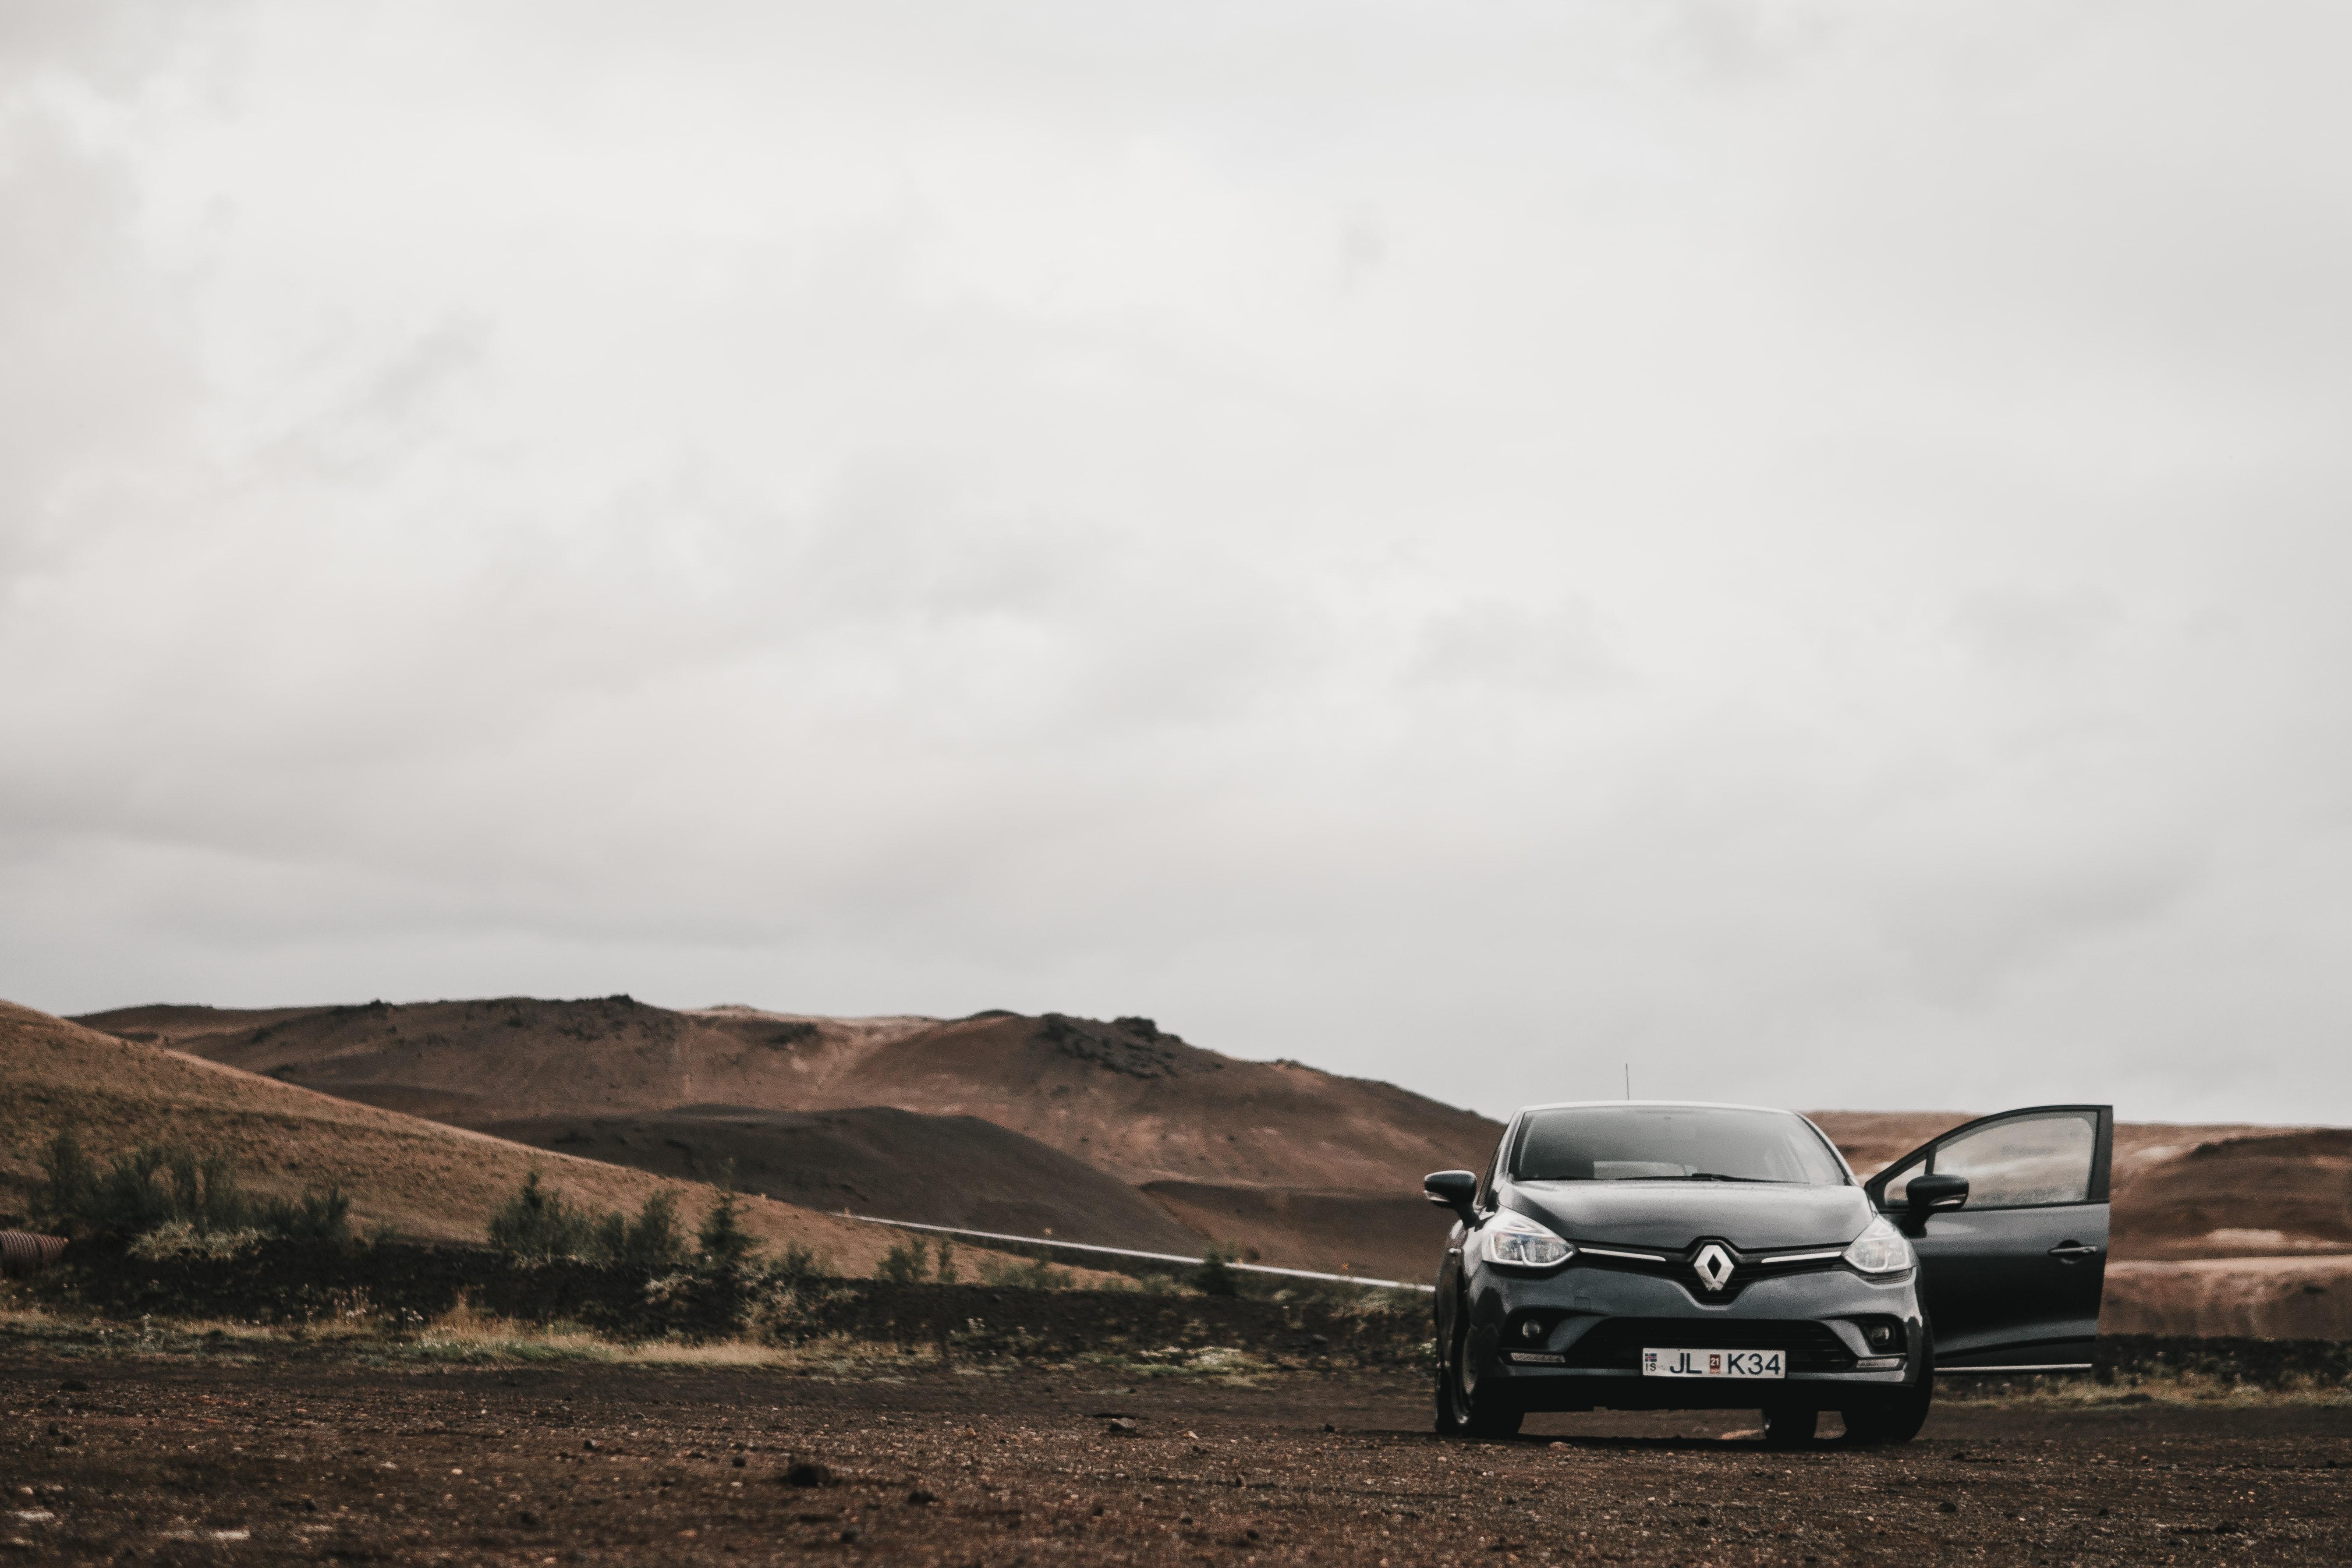Renault: (1678, 1228, 1759, 1319)
